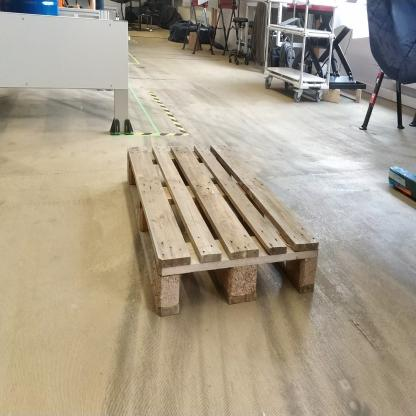BoxFace: (120, 135, 325, 323)
